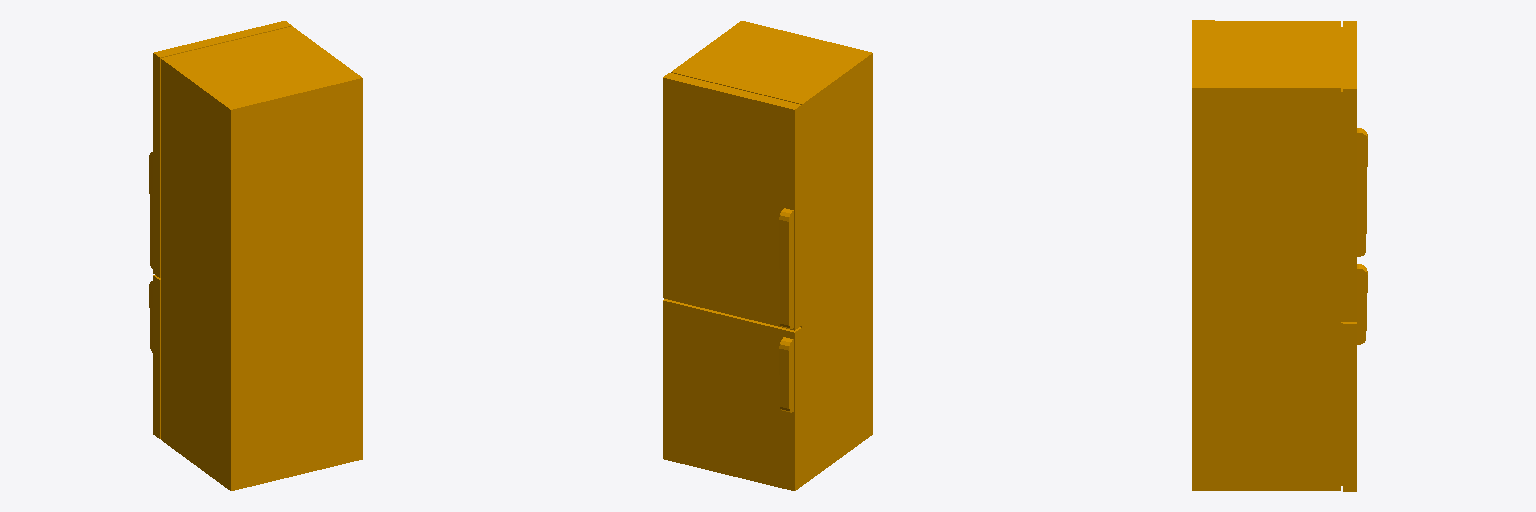
URDF robot description (replica_refrigerator):
<?xml version="1.0"?>
<robot name="replica_refrigerator">
  <link name="body">
    <visual>
      <geometry>
        <mesh filename="refrigerator.obj"/>
      </geometry>
    </visual>
  </link>
</robot>

--- Render facts (derived) ---
The picture shows the robot from 3 angles, left to right: view 1: azimuth 30°, elevation 25°; view 2: azimuth 150°, elevation 25°; view 3: azimuth 270°, elevation 25°; orthographic projection.
Model replica_refrigerator with 1 links and 0 joints (none), rooted at body, posed every joint at zero.
Visible links, largest first — view 1: body; view 2: body; view 3: body.
Boxes of the visible links, x1,y1,x2,y2 form: body: (149,21,362,490); body: (663,21,872,490); body: (1192,20,1367,491).
Bounding box of the posed robot: 0.6967 × 0.7588 × 1.92 m (x, y, z).
1 mesh visuals loaded from 1 distinct referenced files (1 OBJ).
